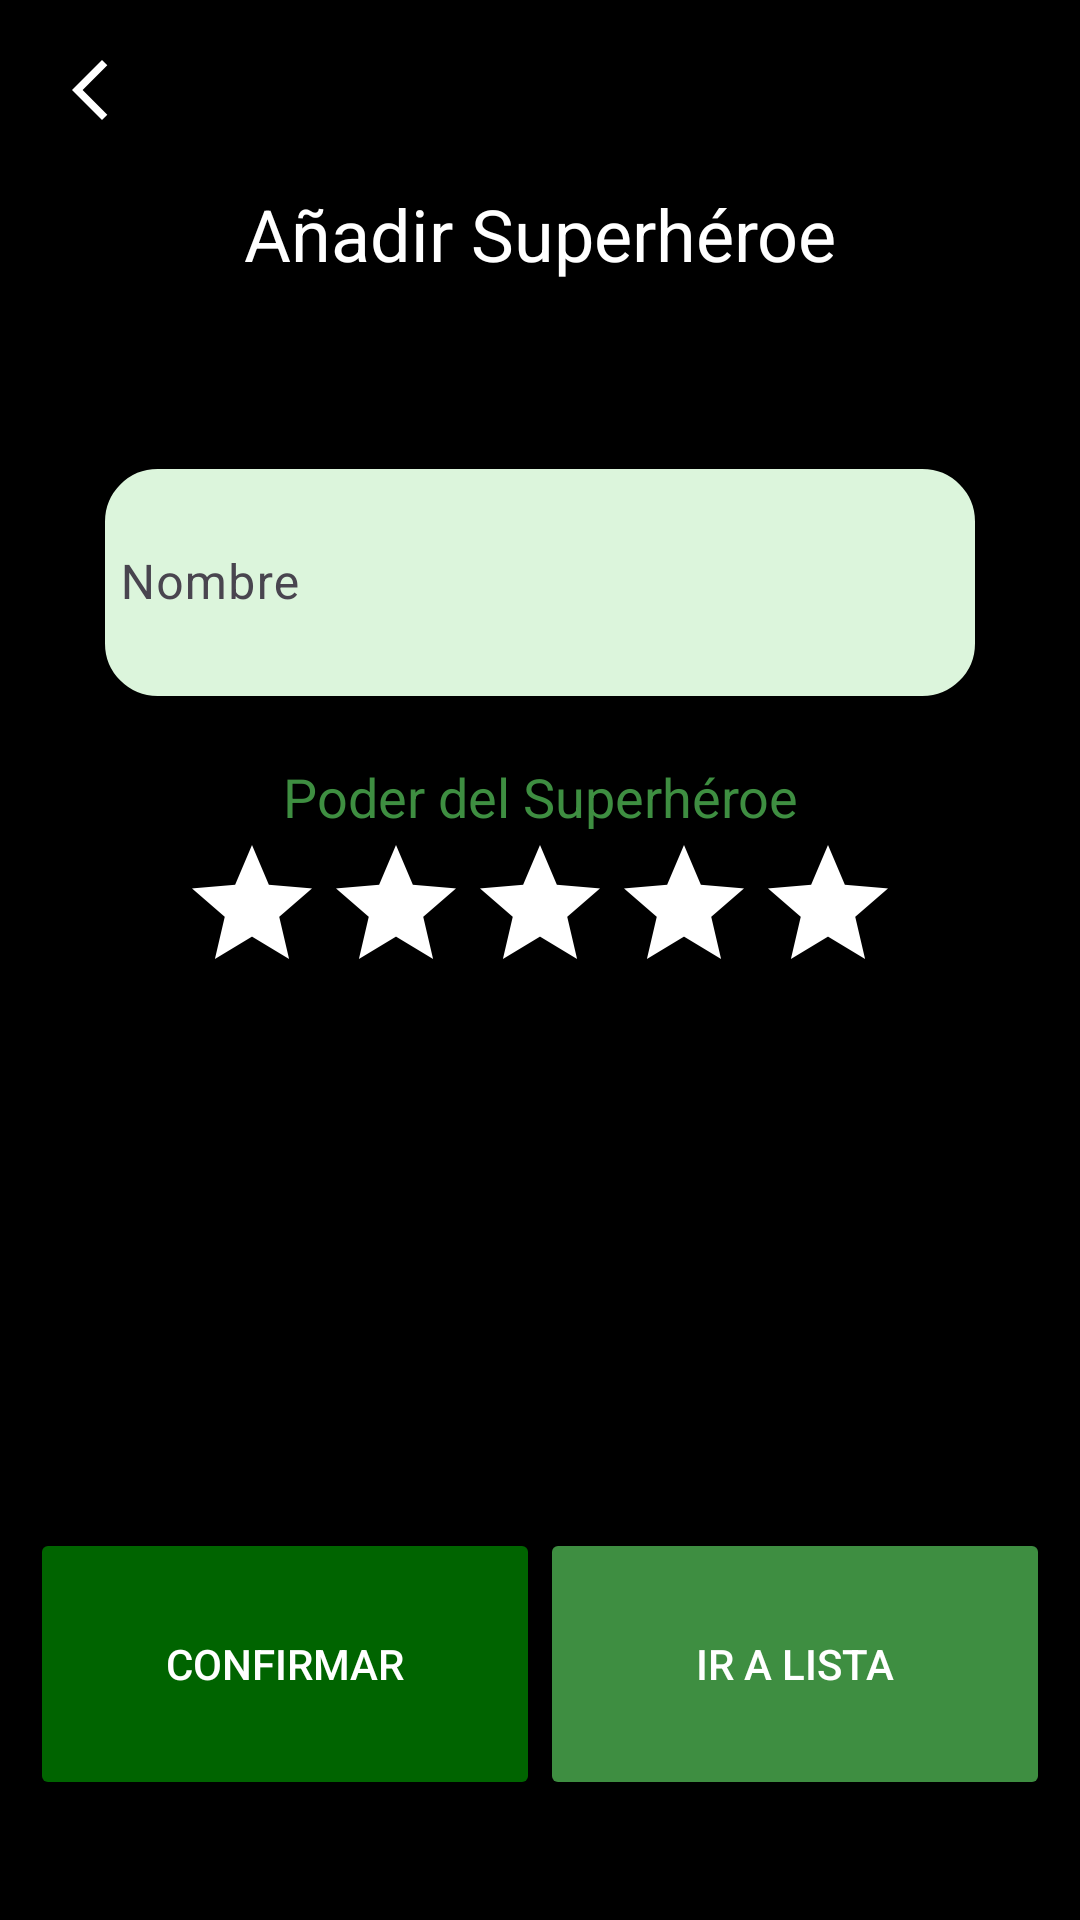

Where icons sit on this 1080x1920 app screen, as bbox=[x1, y1, x2, y2]:
flechita atras blanco: bbox=[72, 60, 107, 120]
